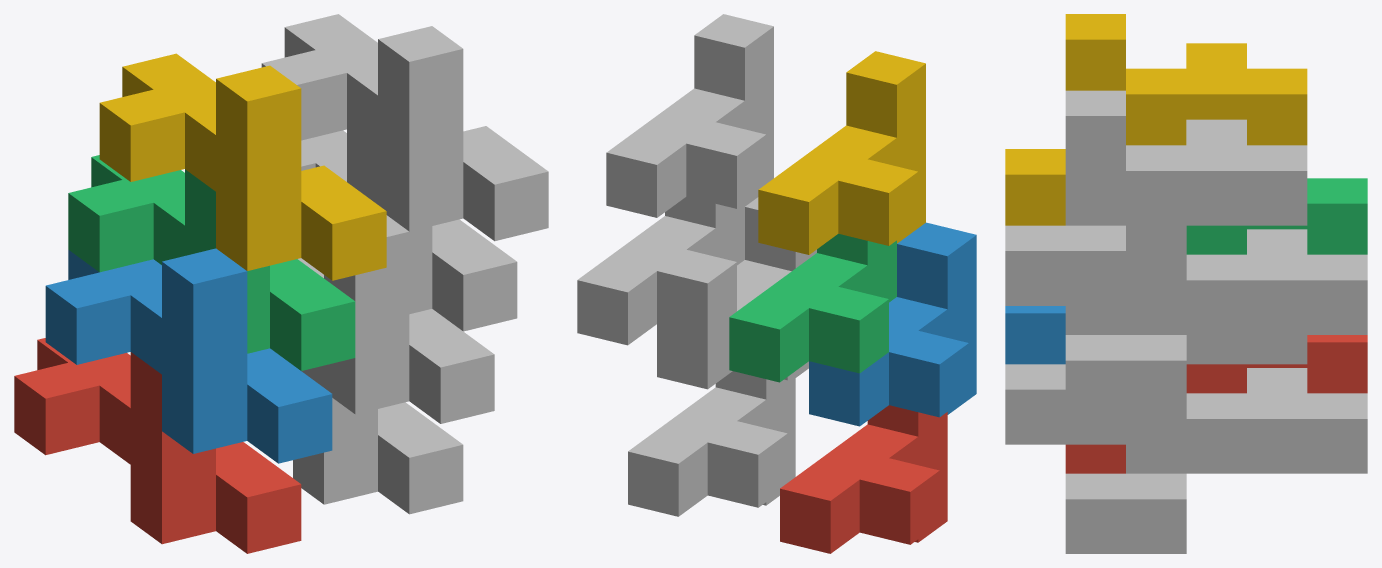
The model's file is tiling.obj.
3 renders of one model, left to right at view 1: azimuth 30°, elevation 25°; view 2: azimuth 150°, elevation 25°; view 3: azimuth 270°, elevation 25°, orthographic. The views are drawn at different scales.
Parts seen in each view (by area): view 1: copy_1_domain_4, copy_1_domain_2, copy_1_domain_8, copy_1_domain_1, copy_1_domain_3, copy_1_domain_6, copy_1_domain_5, copy_1_domain_7; view 2: copy_1_domain_4, copy_1_domain_8, copy_1_domain_2, copy_1_domain_1, copy_1_domain_5, copy_1_domain_3, copy_1_domain_7, copy_1_domain_6; view 3: copy_1_domain_8, copy_1_domain_7, copy_1_domain_5, copy_1_domain_4, copy_1_domain_6, copy_1_domain_1, copy_1_domain_3, copy_1_domain_2.
Part boxes in pixels (x1,y1,x2,y2): copy_1_domain_4: (99, 53, 386, 280); copy_1_domain_2: (45, 248, 332, 463); copy_1_domain_8: (261, 14, 548, 241); copy_1_domain_1: (14, 338, 301, 553); copy_1_domain_3: (68, 155, 355, 370); copy_1_domain_6: (298, 215, 494, 423); copy_1_domain_5: (293, 365, 463, 514); copy_1_domain_7: (301, 129, 517, 331); copy_1_domain_4: (758, 51, 925, 254); copy_1_domain_8: (606, 14, 773, 217); copy_1_domain_2: (809, 222, 976, 426); copy_1_domain_1: (780, 405, 947, 553); copy_1_domain_5: (628, 371, 795, 516); copy_1_domain_3: (729, 233, 896, 382); copy_1_domain_7: (577, 196, 744, 345); copy_1_domain_6: (657, 197, 816, 389); copy_1_domain_8: (1005, 90, 1307, 305); copy_1_domain_7: (1065, 225, 1367, 415); copy_1_domain_5: (1065, 368, 1367, 553); copy_1_domain_4: (1005, 14, 1307, 225); copy_1_domain_6: (1005, 306, 1307, 444); copy_1_domain_1: (1065, 335, 1367, 473); copy_1_domain_3: (1186, 178, 1367, 254); copy_1_domain_2: (1005, 306, 1065, 364).
Bounding box in the file's own units: 7 × 8 × 6.
